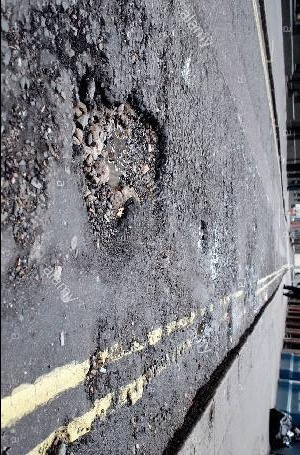pothole: (70, 63, 172, 252), (198, 218, 209, 251)
